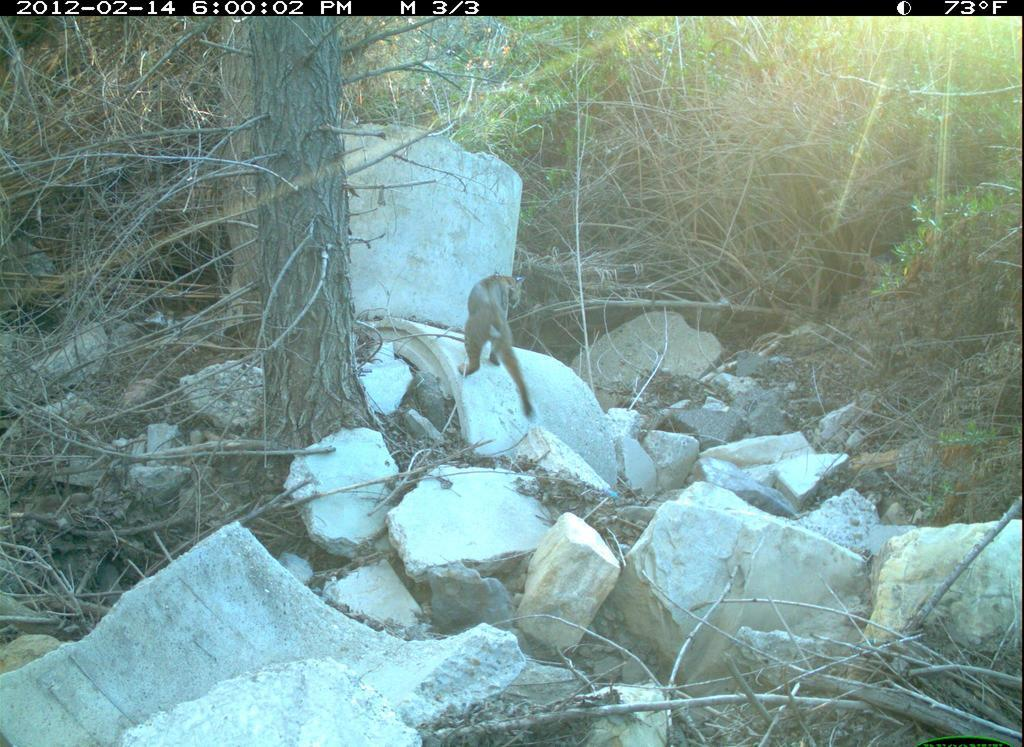bobcat: (452, 272, 542, 424)
